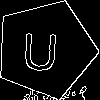U: (20, 24, 61, 71)
